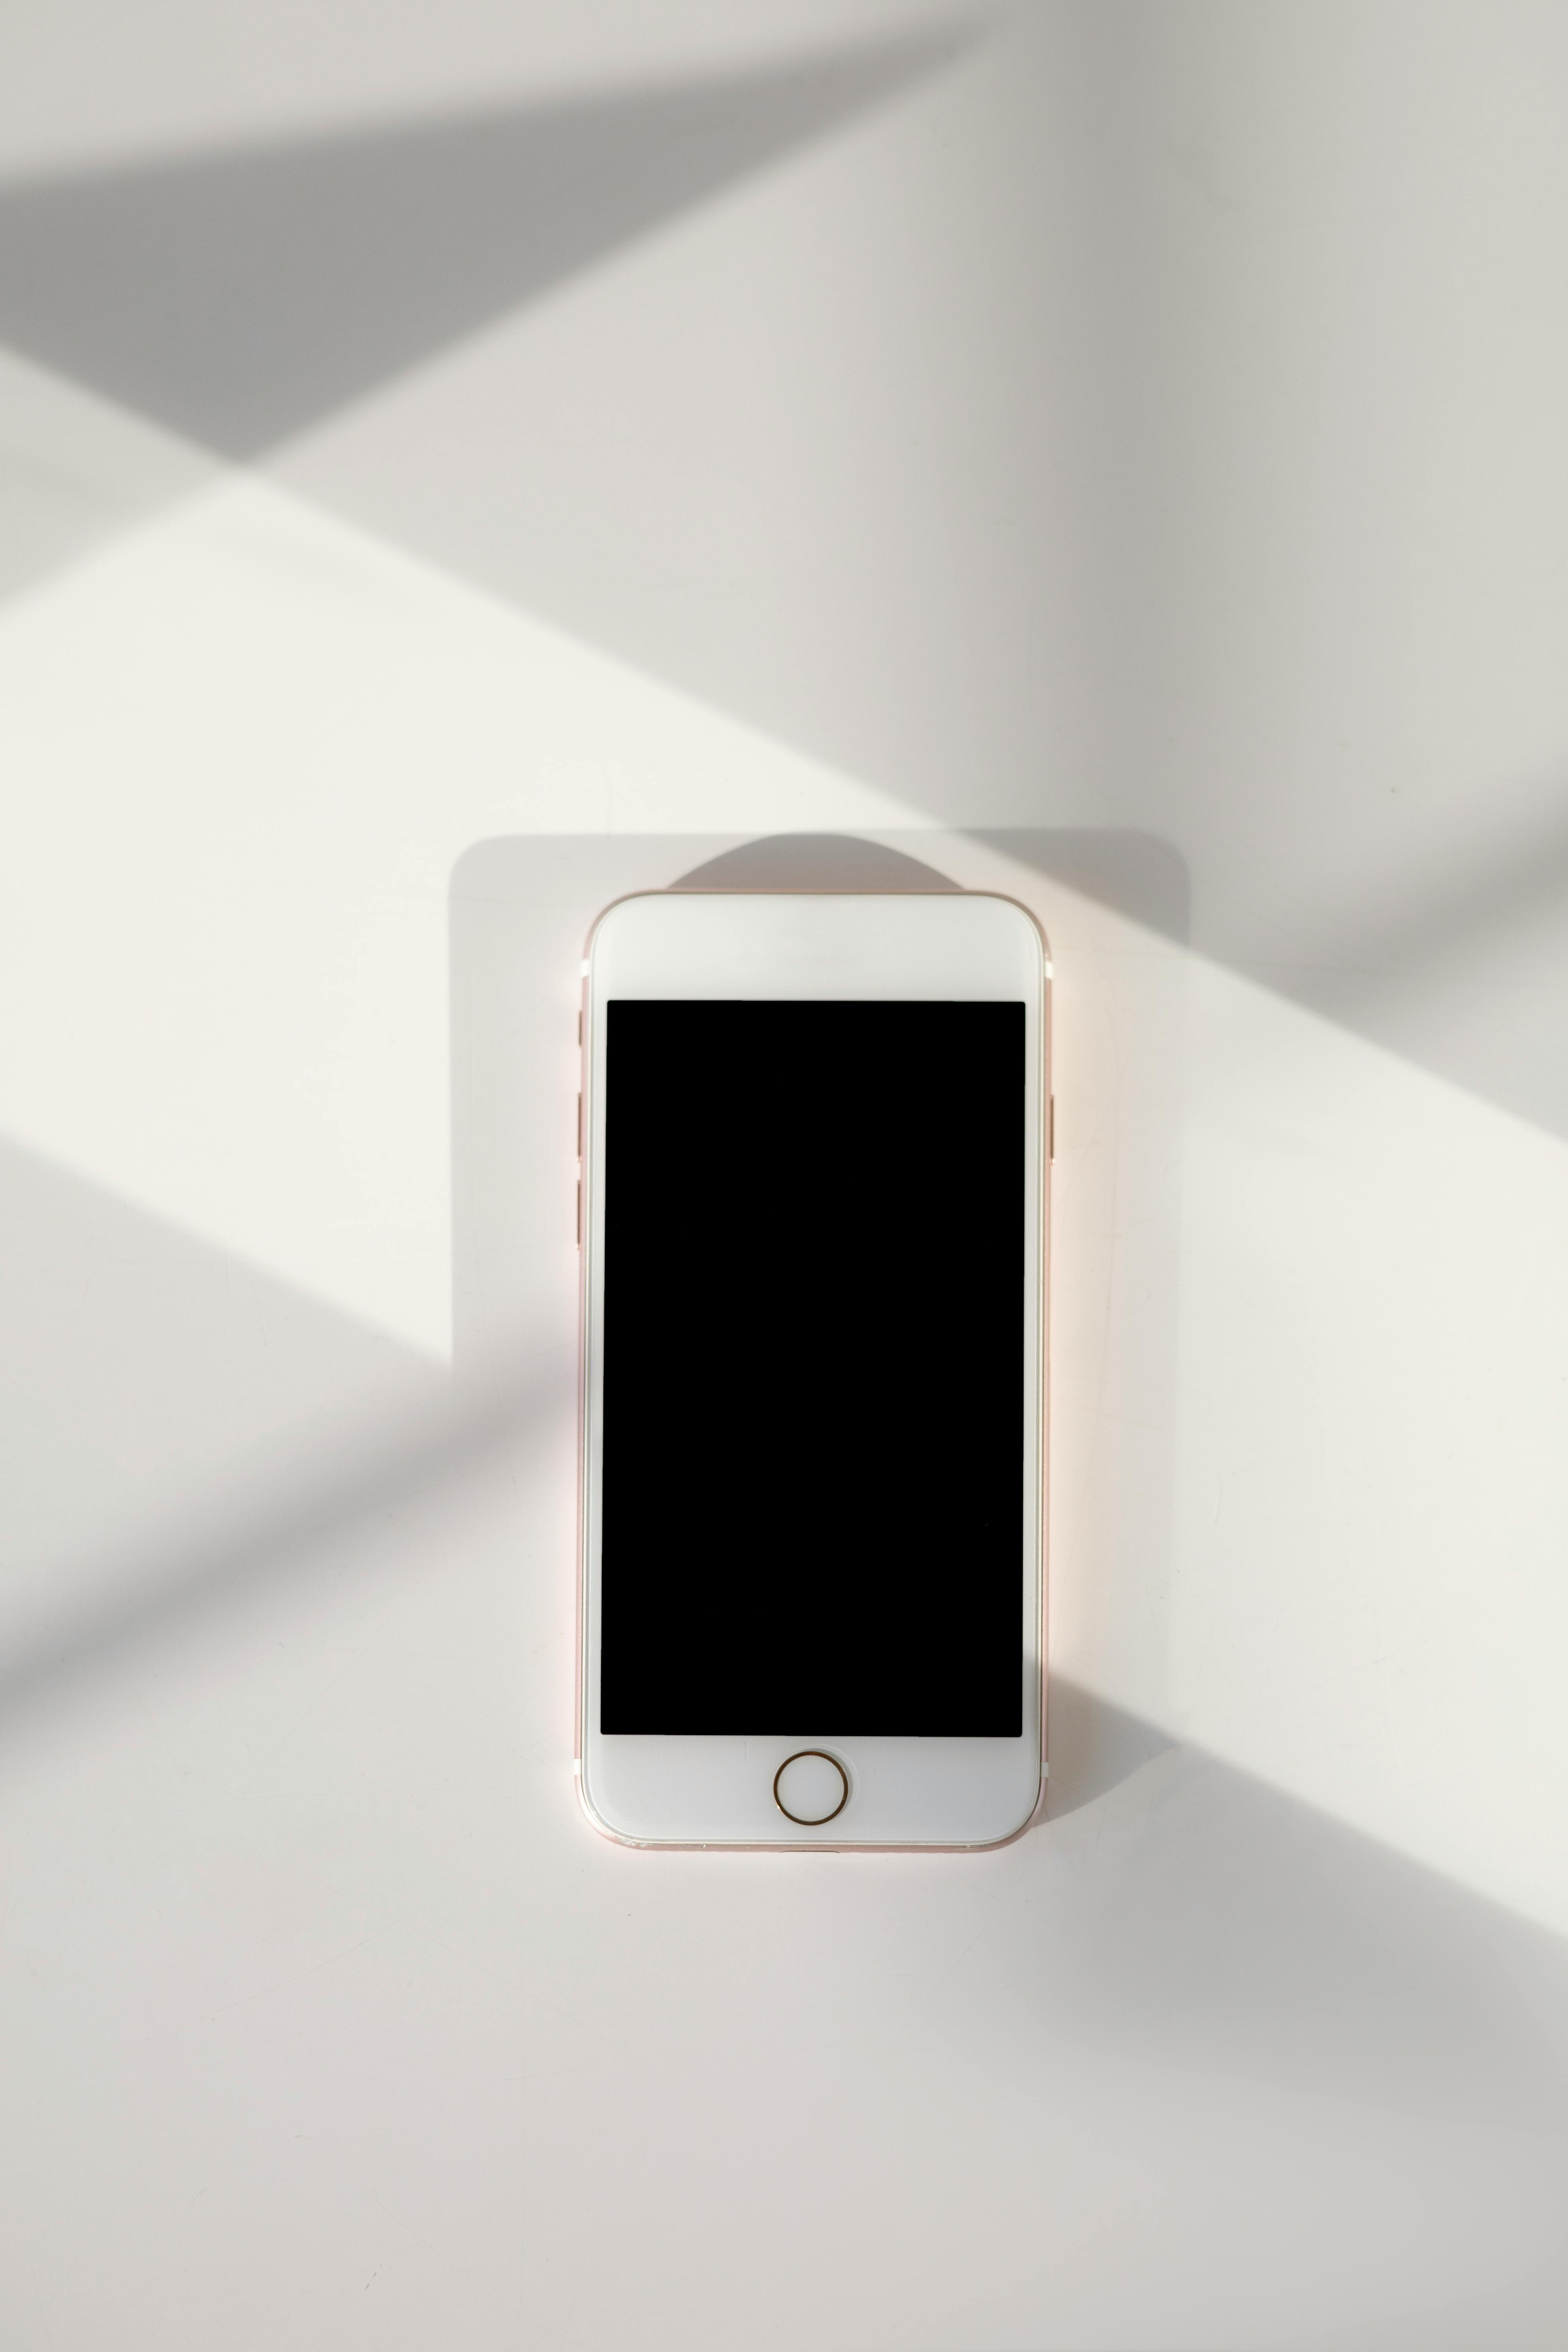p6: (569, 866, 1095, 1871)
